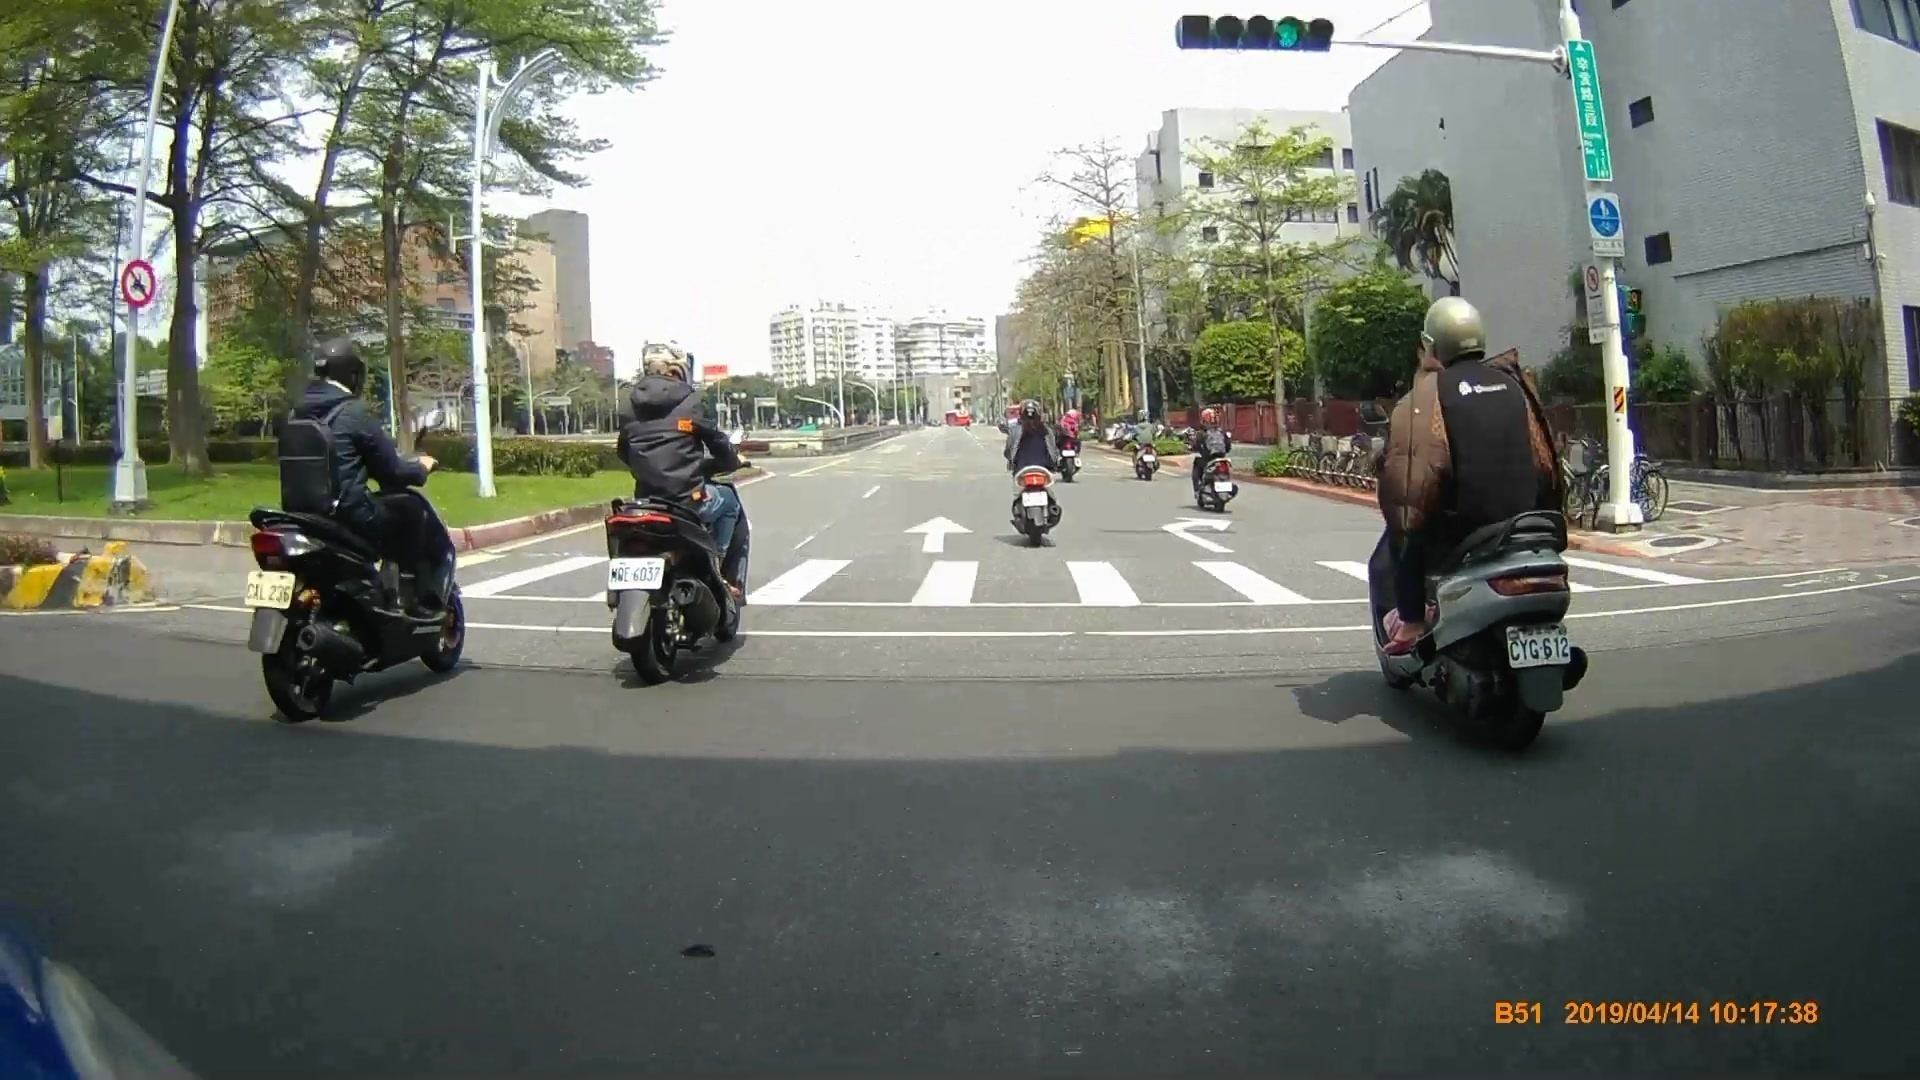License_plate: (1503, 630, 1577, 664), (244, 572, 296, 612), (606, 559, 664, 588)
